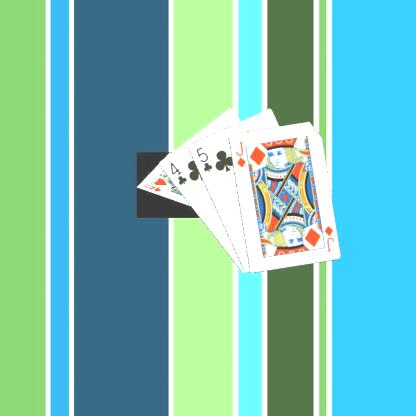4C: (167, 160, 188, 186)
5C: (193, 144, 214, 173)
JD: (233, 138, 247, 169), (321, 222, 335, 253)
